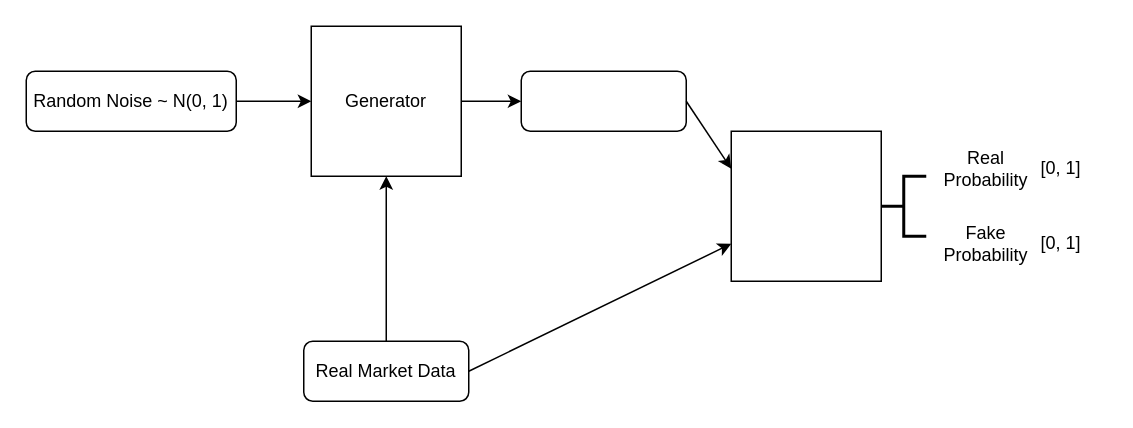
Some shapes in this 1133 by 428 pixel diagram are drawn without their labels. Each missing label, with the box of its shape:
Discriminator: (730, 130, 881, 281)
Generated Market Data: (520, 70, 686, 131)
